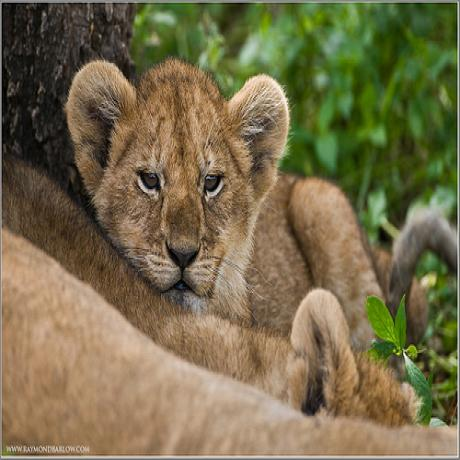Lion: (60, 54, 388, 352)
